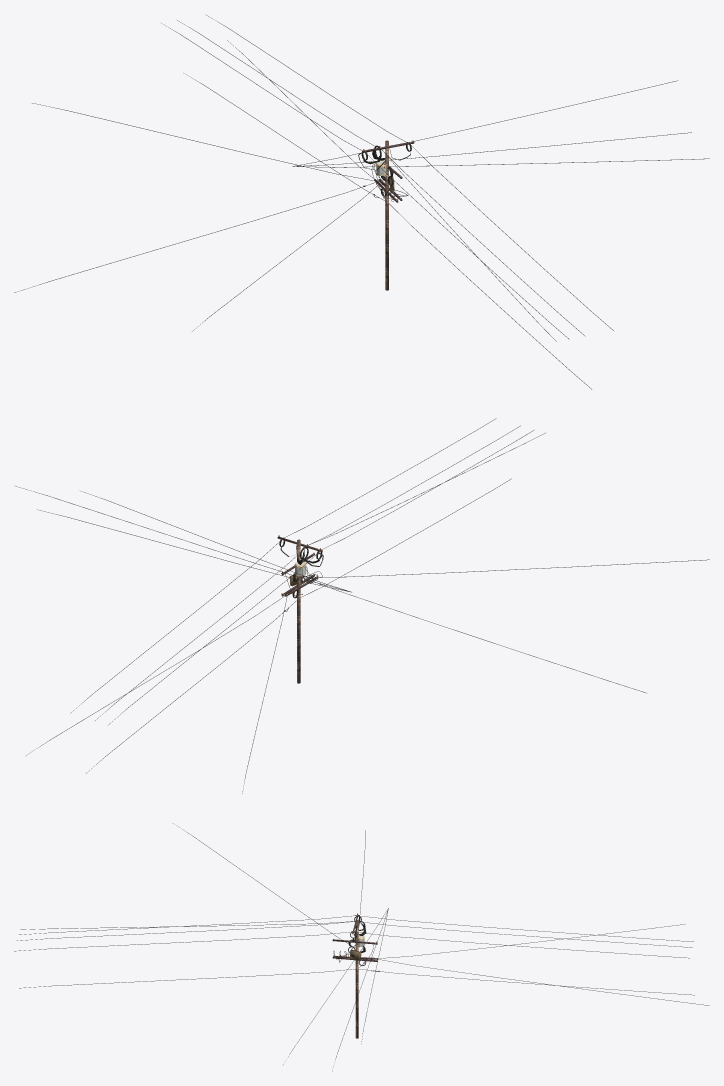
File: scrapstexp.glb
3 renders of one model, top to bottom at view 1: azimuth 30°, elevation 25°; view 2: azimuth 150°, elevation 25°; view 3: azimuth 270°, elevation 25°, orthographic. The views are drawn at different scales.
Visible parts, largest first — view 1: BézierCurve.001; view 2: BézierCurve.001; view 3: BézierCurve.001.
Boxes of the visible parts, bbox=[...] form: BézierCurve.001: bbox=[14, 15, 709, 389]; BézierCurve.001: bbox=[14, 418, 709, 793]; BézierCurve.001: bbox=[14, 823, 709, 1071].
Bounding box in the file's own units: 8.53 × 1.83 × 9.8.
7 materials, 7 textured.
